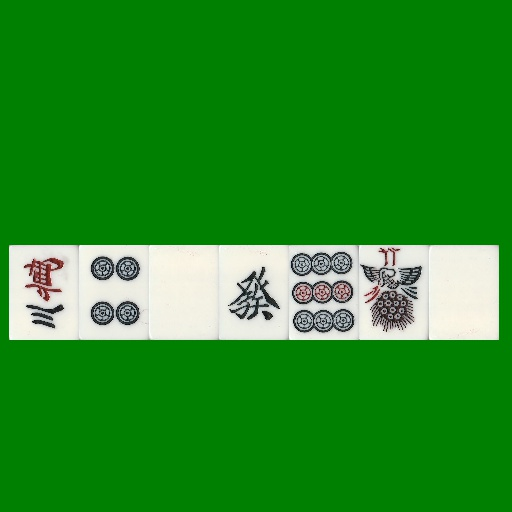1s: (359, 245, 429, 340)
3m: (9, 245, 79, 340)
4p: (79, 245, 149, 340)
9p: (289, 245, 359, 340)
hatsu: (219, 245, 289, 340)
white: (149, 245, 219, 340), (429, 245, 499, 340)
